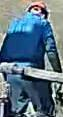helmet: (25, 1, 49, 12)
vest: (1, 14, 47, 69)
